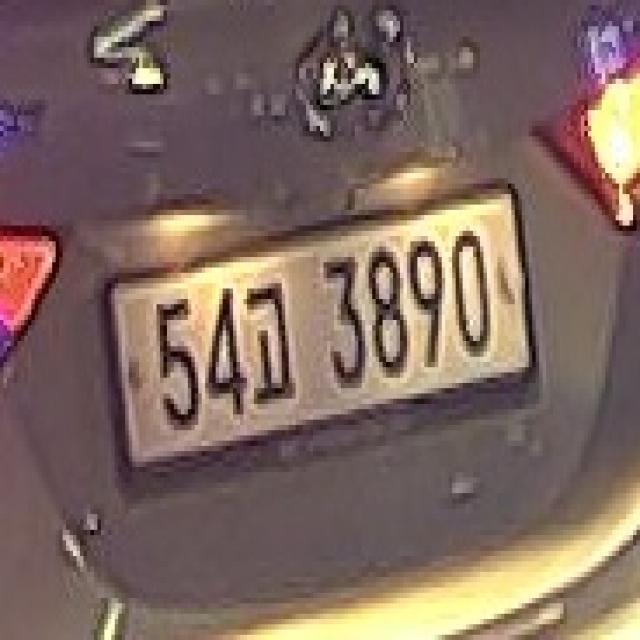0: (449, 210, 497, 372)
3: (320, 241, 362, 404)
4: (198, 272, 250, 440)
5: (150, 283, 205, 446)
8: (365, 231, 407, 404)
9: (407, 215, 449, 388)
go: (244, 268, 292, 409)
license_plate: (101, 173, 536, 504)
